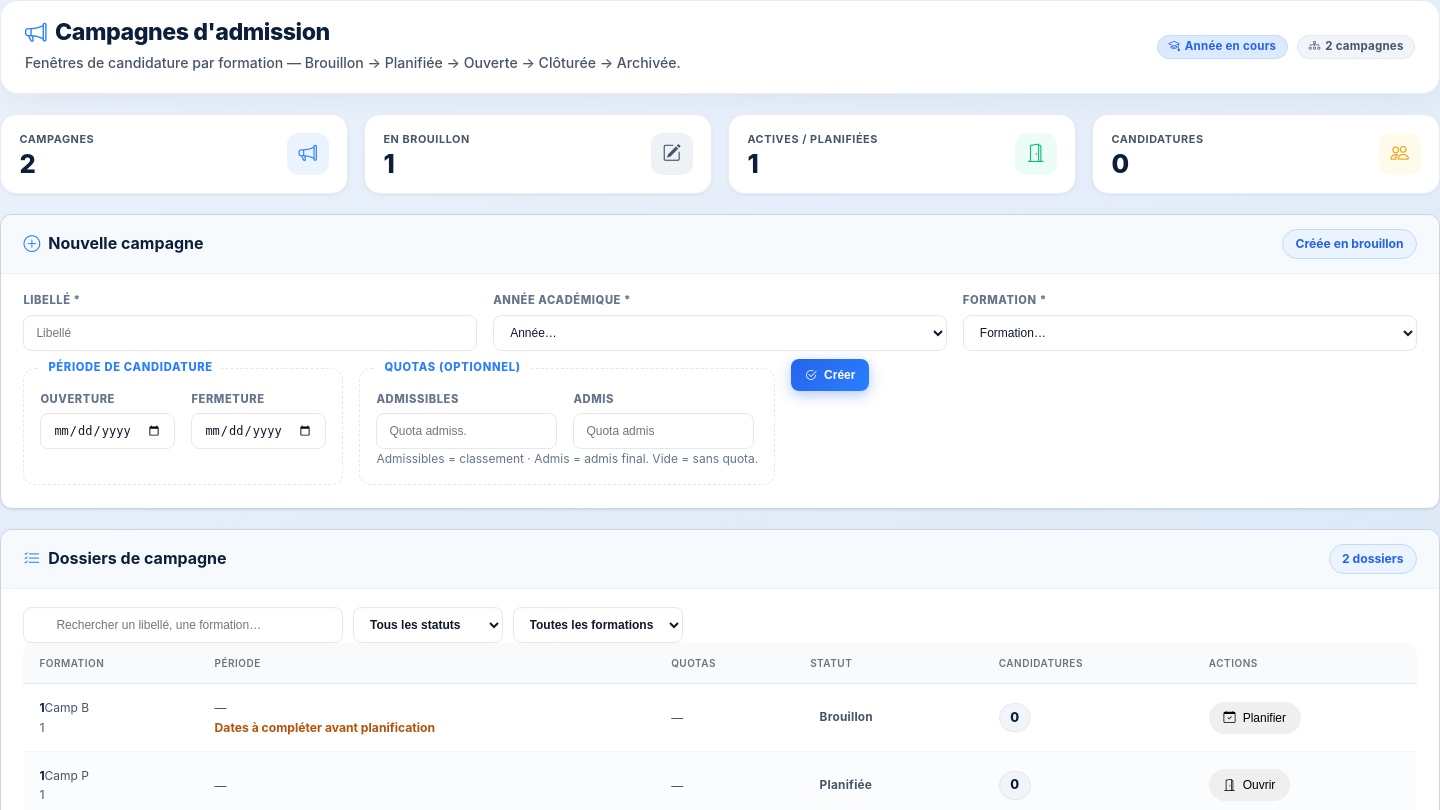
Test: §10.8 LOT 8 — actions Scolarité au clic (écritures API) › Campagnes : Planifier (sans confirm) puis Ouvrir (avec confirm) émettent les bonnes transitions
This screenshot has width=1440, height=810.
Note: BROUILLON → PLANIFIEE : pas de confirmation demandée.
Click the button "Planifier". click: (1255, 718)
box: [1209, 702, 1301, 734]
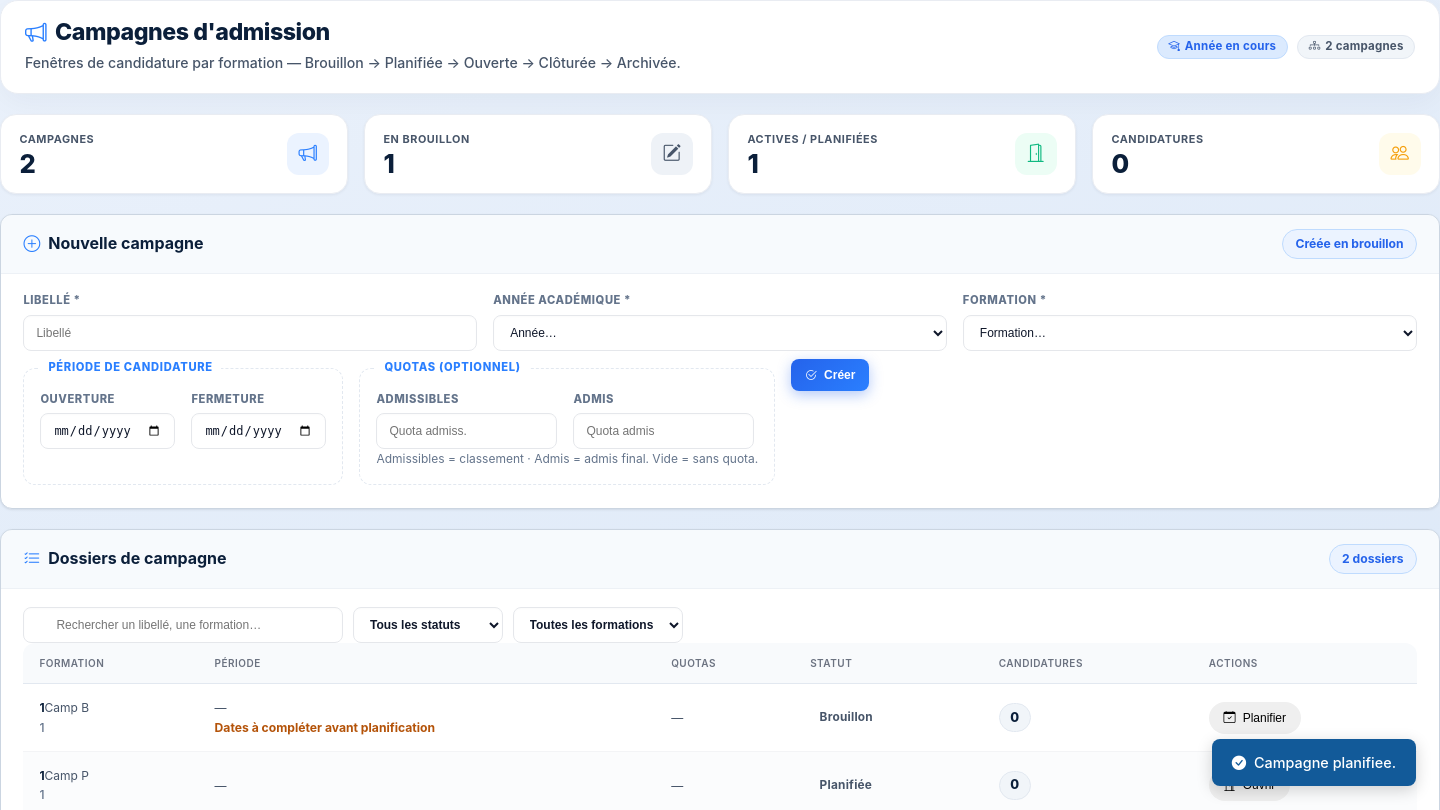
Note: PLANIFIEE → OUVERTE : confirmation explicite.
Click the button "Ouvrir". click: (1249, 785)
box: [1209, 769, 1290, 801]
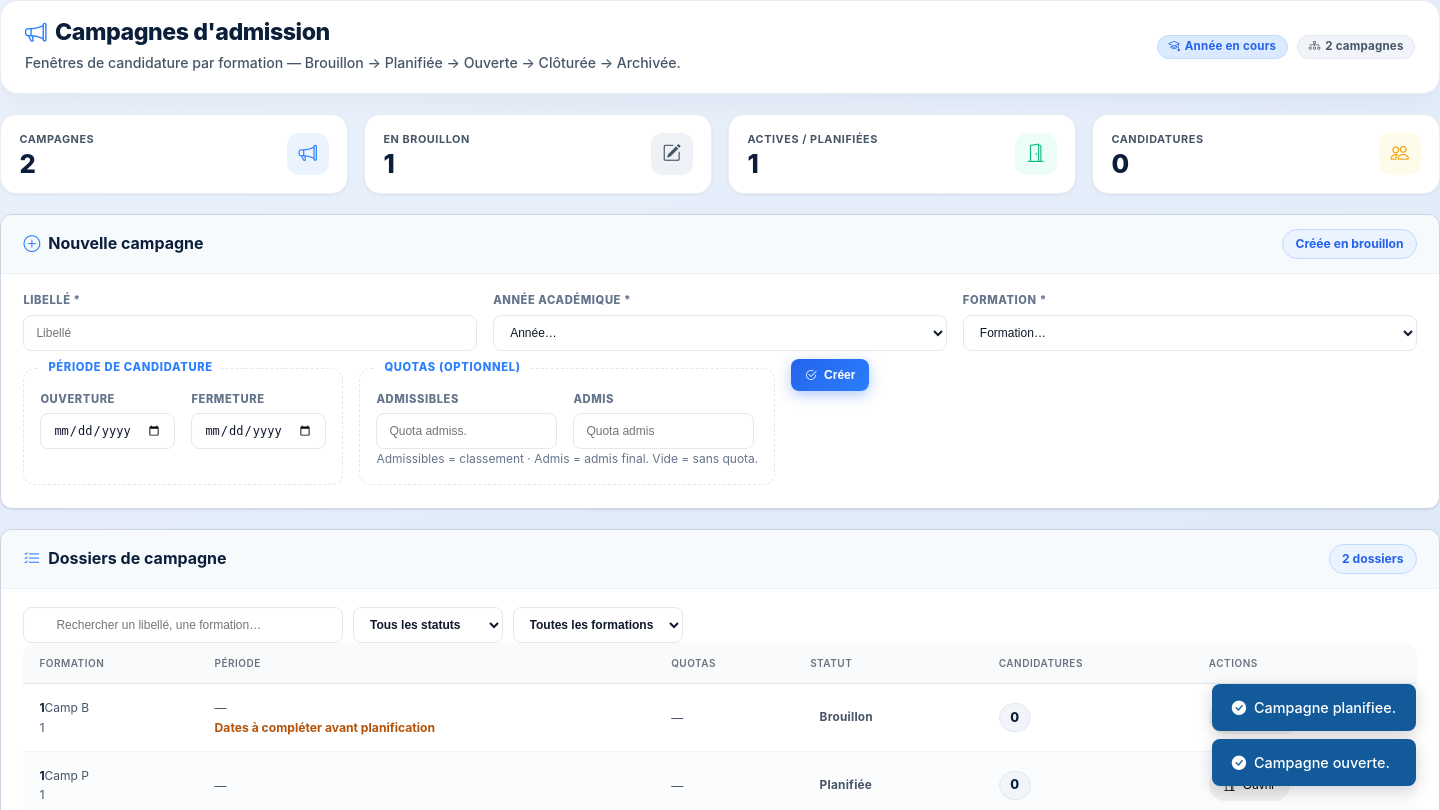
expect the text "Campagne ouverte." is shown: met, box [1212, 739, 1416, 786]
